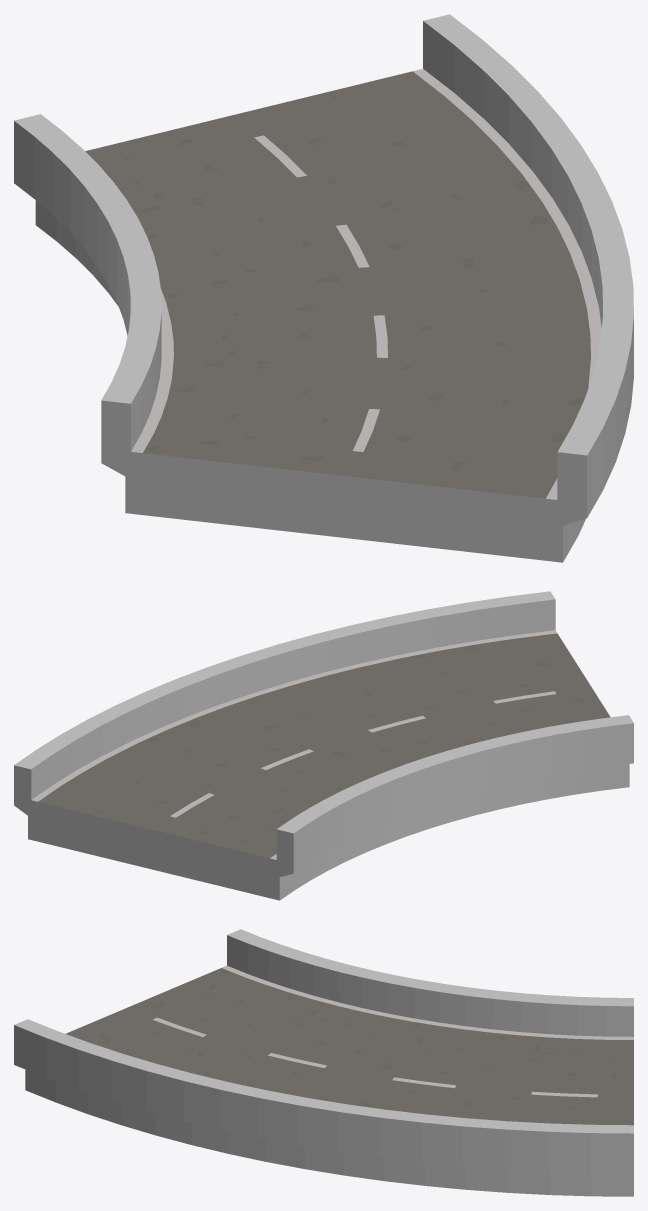
The model's file is SM_Env_Road_Highway_Corner_02.fbx.
3 renders of one model, top to bottom at view 1: azimuth 30°, elevation 25°; view 2: azimuth 150°, elevation 25°; view 3: azimuth 270°, elevation 25°, orthographic. The views are drawn at different scales.
Parts seen in each view (by area): view 1: SM_Env_Road_Highway_Corner_02; view 2: SM_Env_Road_Highway_Corner_02; view 3: SM_Env_Road_Highway_Corner_02.
Part boxes in pixels (<box>): SM_Env_Road_Highway_Corner_02: <box>14,14,633,562</box>; SM_Env_Road_Highway_Corner_02: <box>14,591,633,900</box>; SM_Env_Road_Highway_Corner_02: <box>14,929,633,1196</box>.
Size of the model in its own units: 1719 by 275 by 2204.
